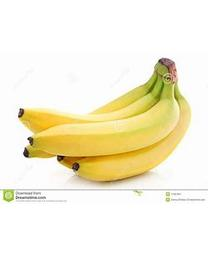banana: (19, 57, 191, 181)
